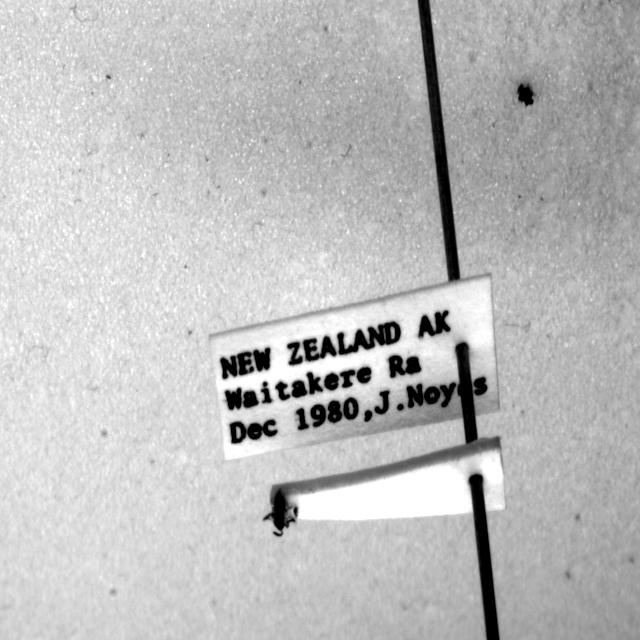typed_label: (210, 276, 499, 459)
